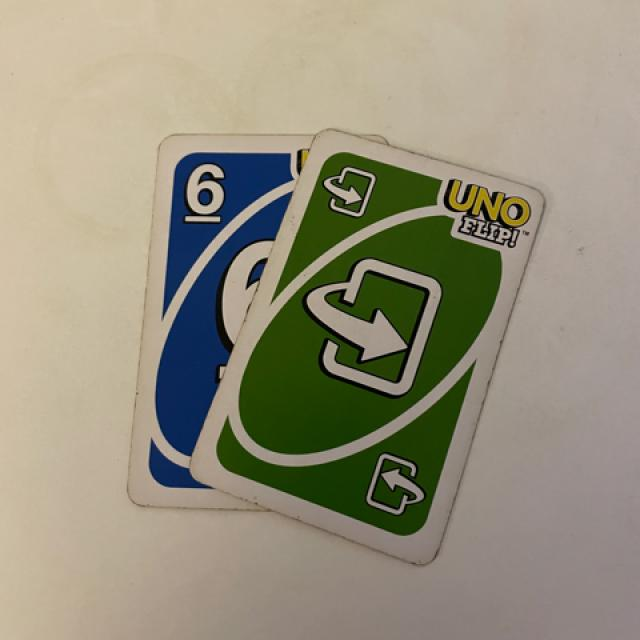lblue-6: (166, 145, 236, 228)
